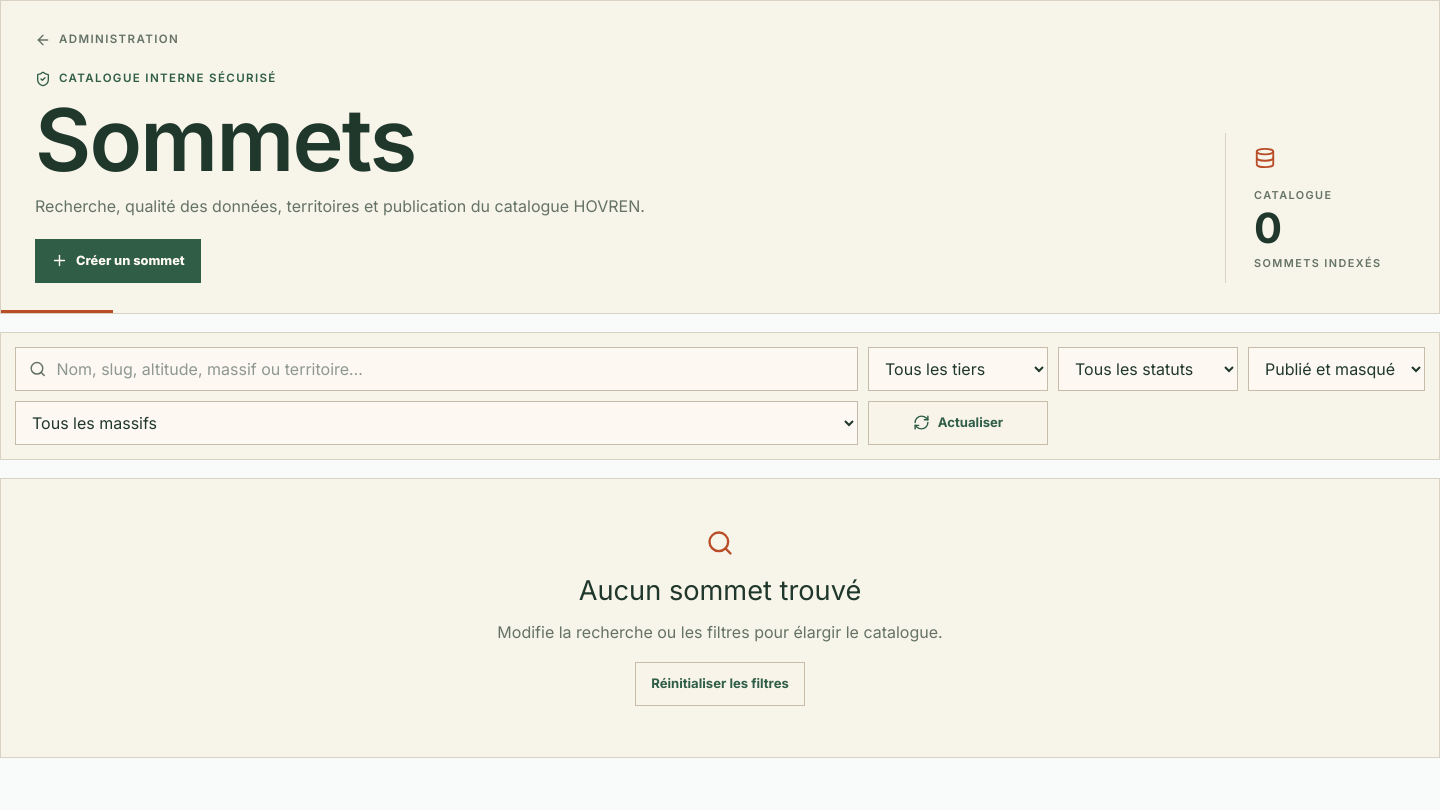
it: AdminSummitsView › opens the manual summit creation workflow
Step 1. Click the button "Créer un sommet" → (118, 261), box [35,239,201,283]
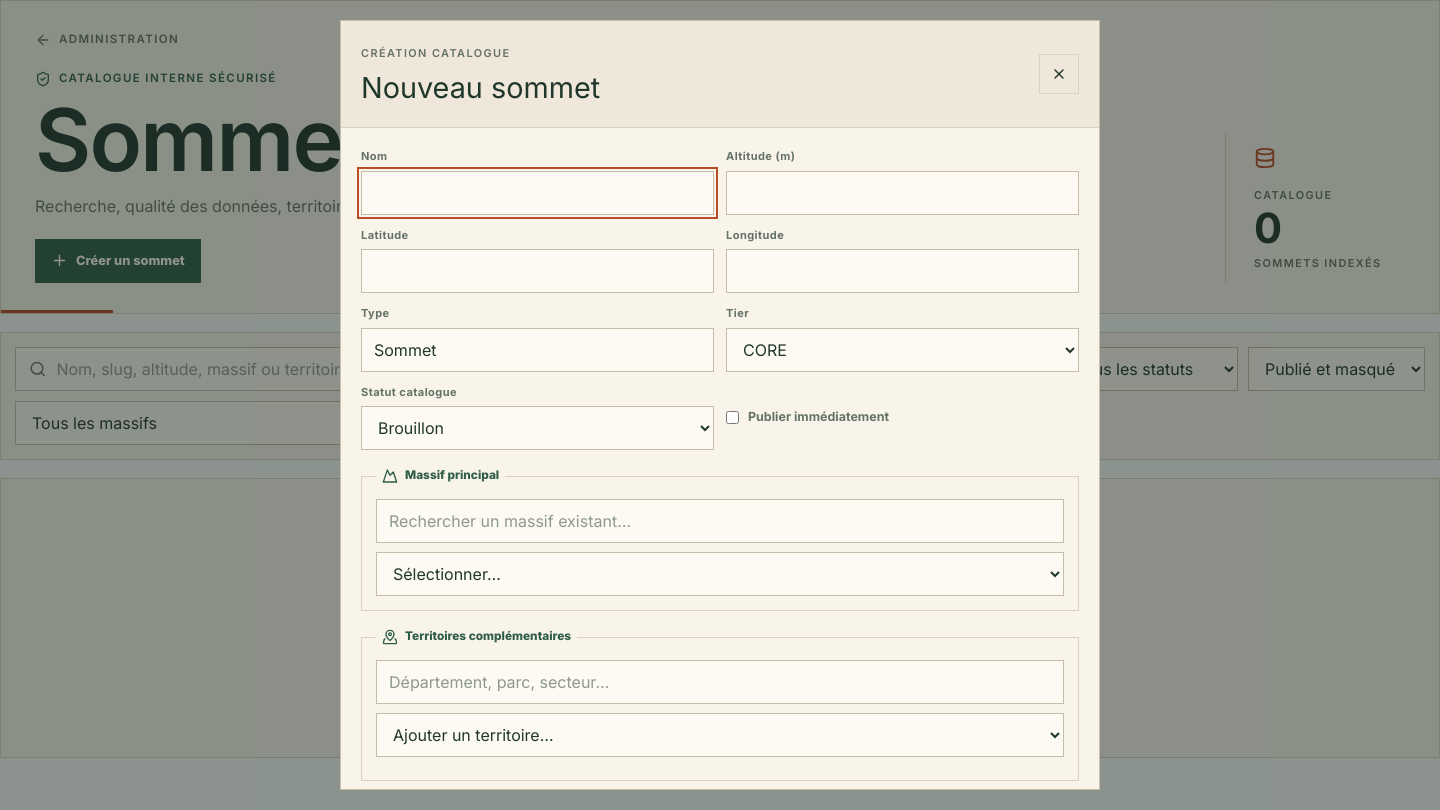
Check: the dialog "Nouveau sommet" is shown, box [340,20,1100,790]
